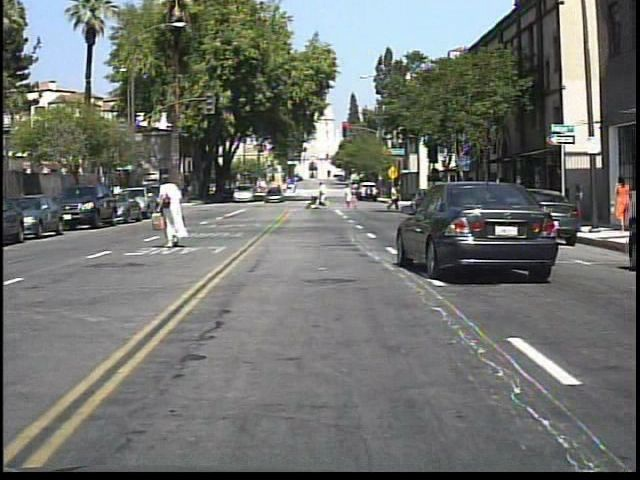person: (155, 168, 190, 251), (612, 166, 636, 233), (492, 170, 512, 220), (386, 182, 402, 213), (317, 181, 331, 210)
